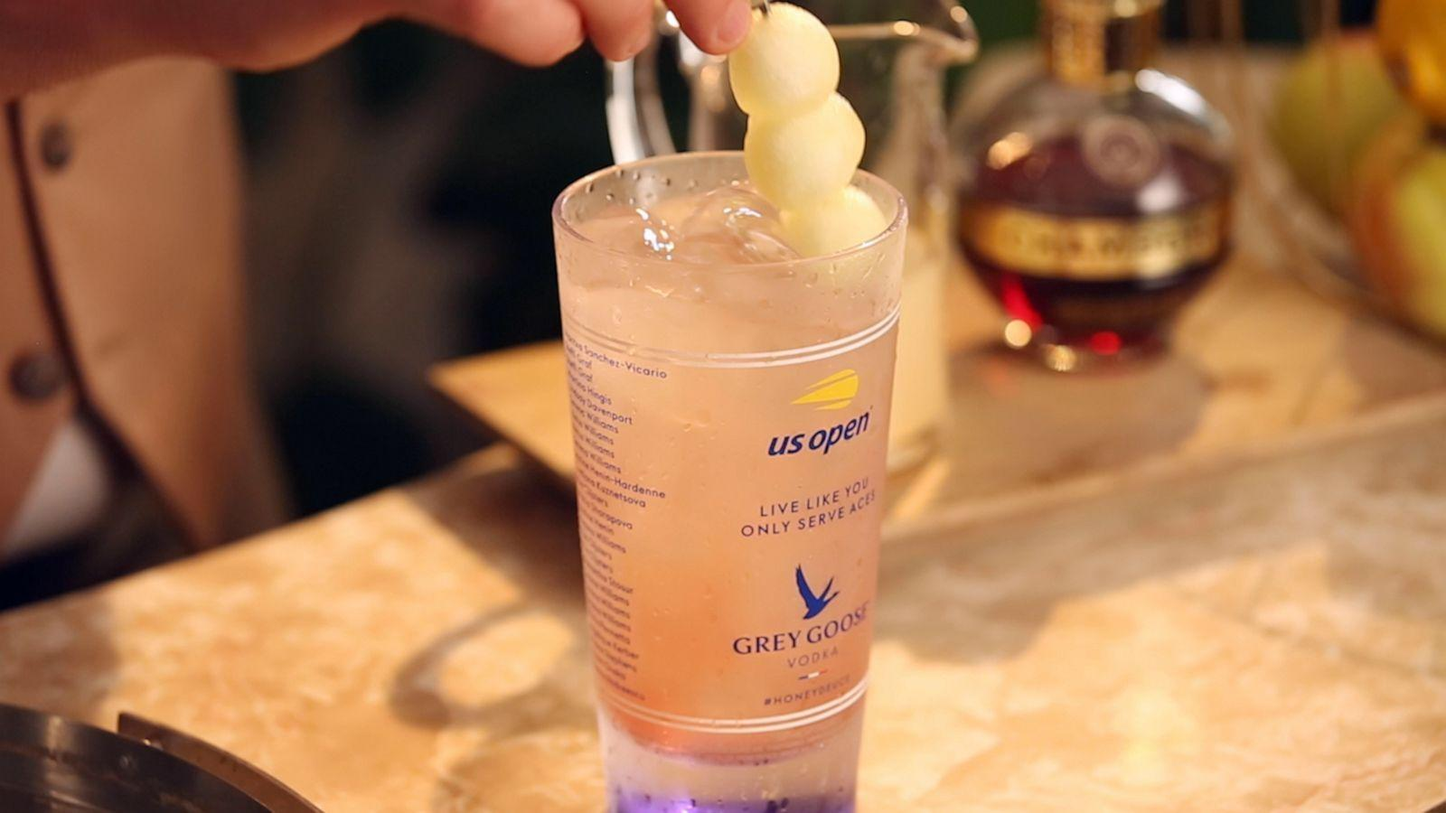glass-normal: (547, 146, 915, 810)
